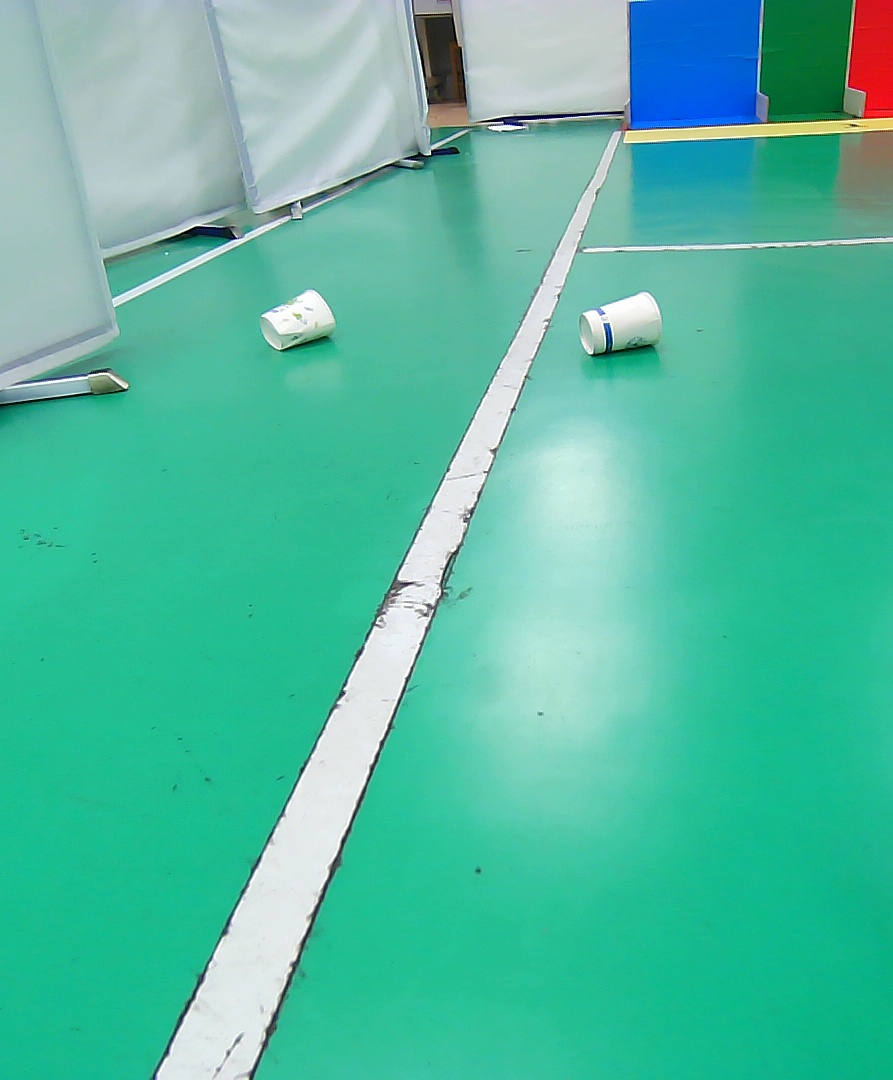papercup: (577, 290, 668, 357), (256, 287, 339, 353)
